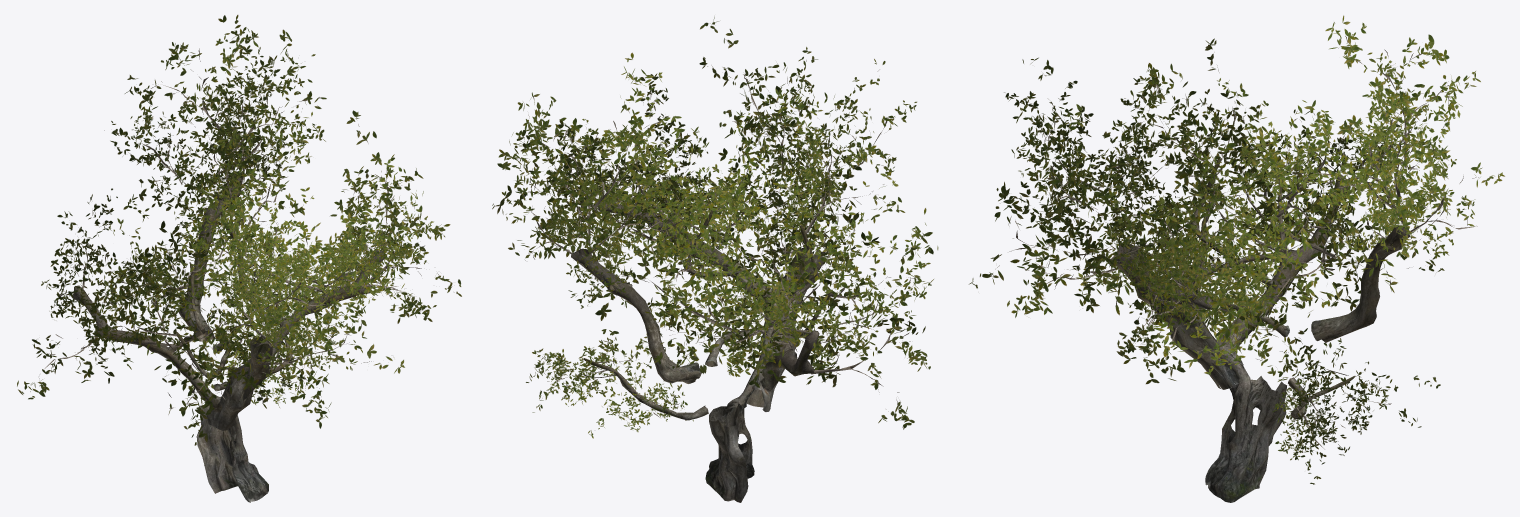
File: ptree_broad.glb
3 renders of one model, left to right at view 1: azimuth 30°, elevation 25°; view 2: azimuth 150°, elevation 25°; view 3: azimuth 270°, elevation 25°, orthographic. The views are drawn at different scales.
Parts seen in each view (by area): view 1: ptree_broad_v0_lod0; view 2: ptree_broad_v0_lod0; view 3: ptree_broad_v0_lod0.
Boxes of the visible parts, x1,y1,x2,y2 form: ptree_broad_v0_lod0: (17, 15, 461, 502); ptree_broad_v0_lod0: (492, 16, 938, 502); ptree_broad_v0_lod0: (969, 15, 1504, 502).
Size of what is drawn, in the model's own units: 13.19 by 13.87 by 13.48.
Materials: 3 (3 with a texture image).
